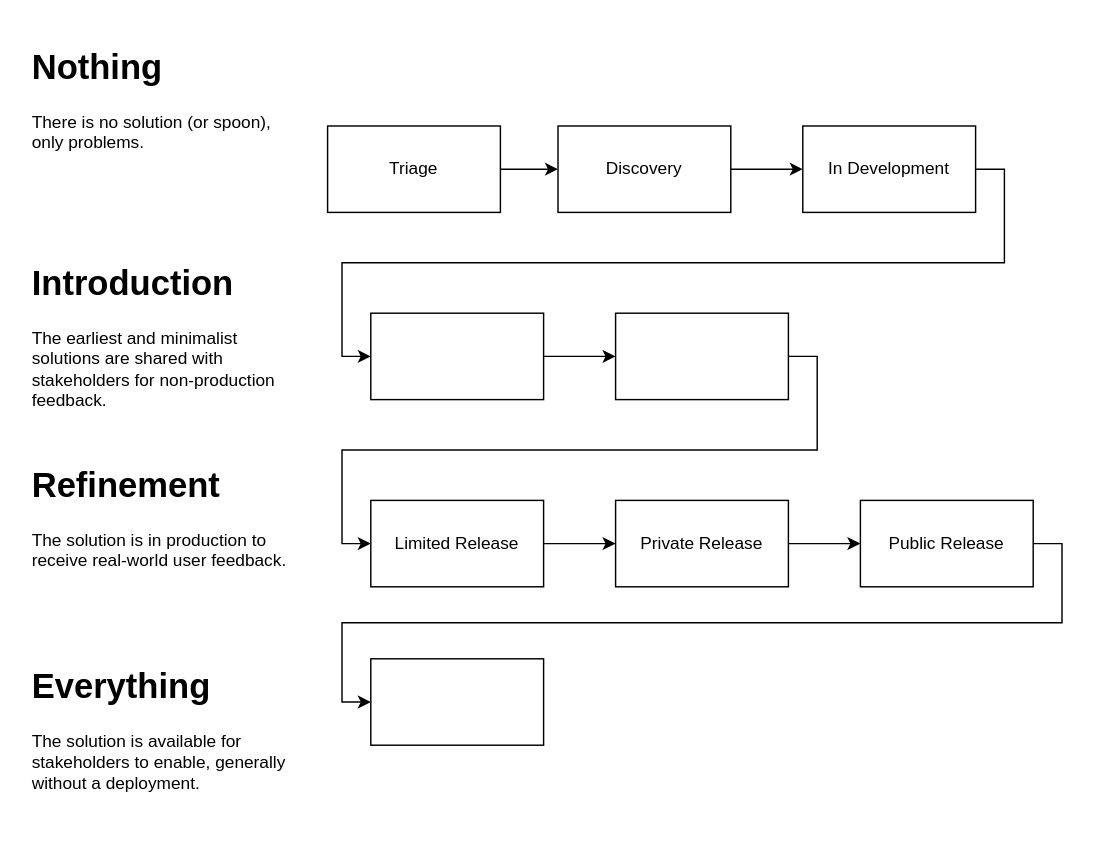
Some shapes in this 1099 by 855 pixel diagram are drawn without their labels. Here are the shapes that lost their labels. From the top down, the box of each, then its label:
(369, 312, 544, 400): Internal Access
(614, 312, 788, 400): Private Access
(369, 657, 544, 745): Rollout Complete
